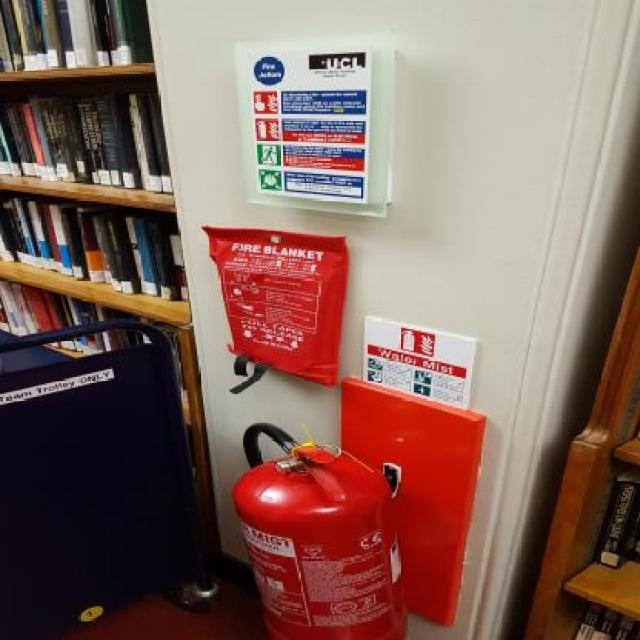fire extinguisher: (234, 424, 408, 638)
